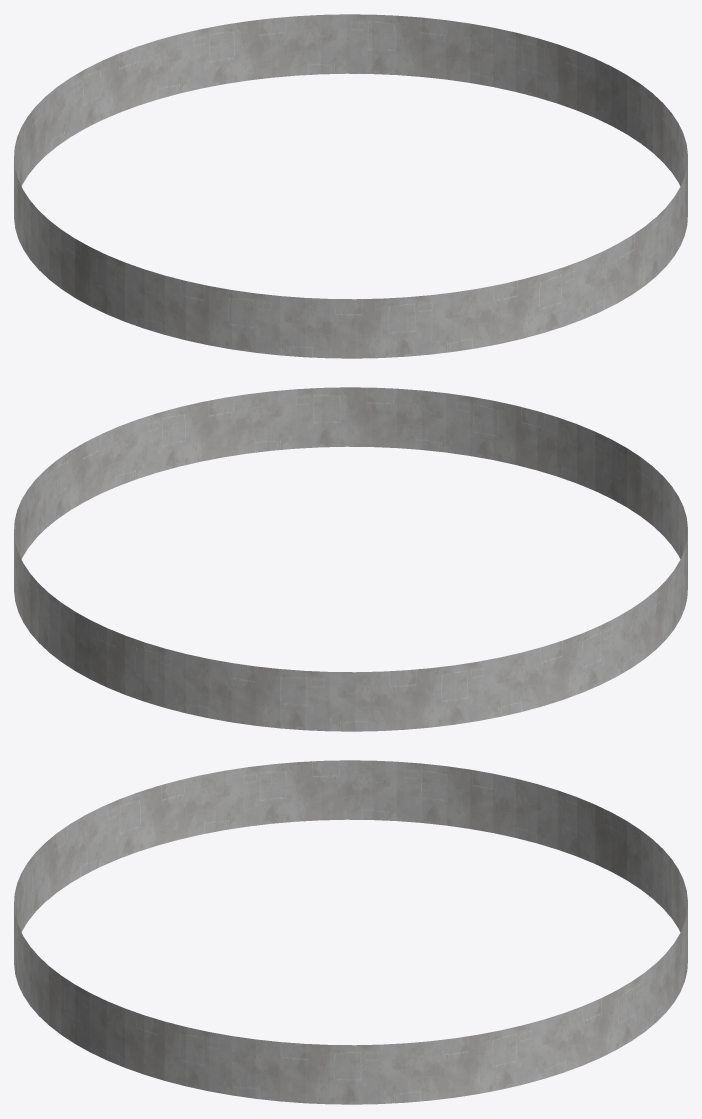
The picture shows the model from 3 angles, top to bottom: view 1: azimuth 30°, elevation 25°; view 2: azimuth 150°, elevation 25°; view 3: azimuth 270°, elevation 25°; orthographic projection.
Visible parts, largest first — view 1: Object030; view 2: Object030; view 3: Object030.
Boxes of the visible parts, <box> form: Object030: <box>14,14,687,358</box>; Object030: <box>14,387,687,731</box>; Object030: <box>14,760,687,1104</box>.
Bounding box in the file's own units: 6379 × 6379 × 621.
